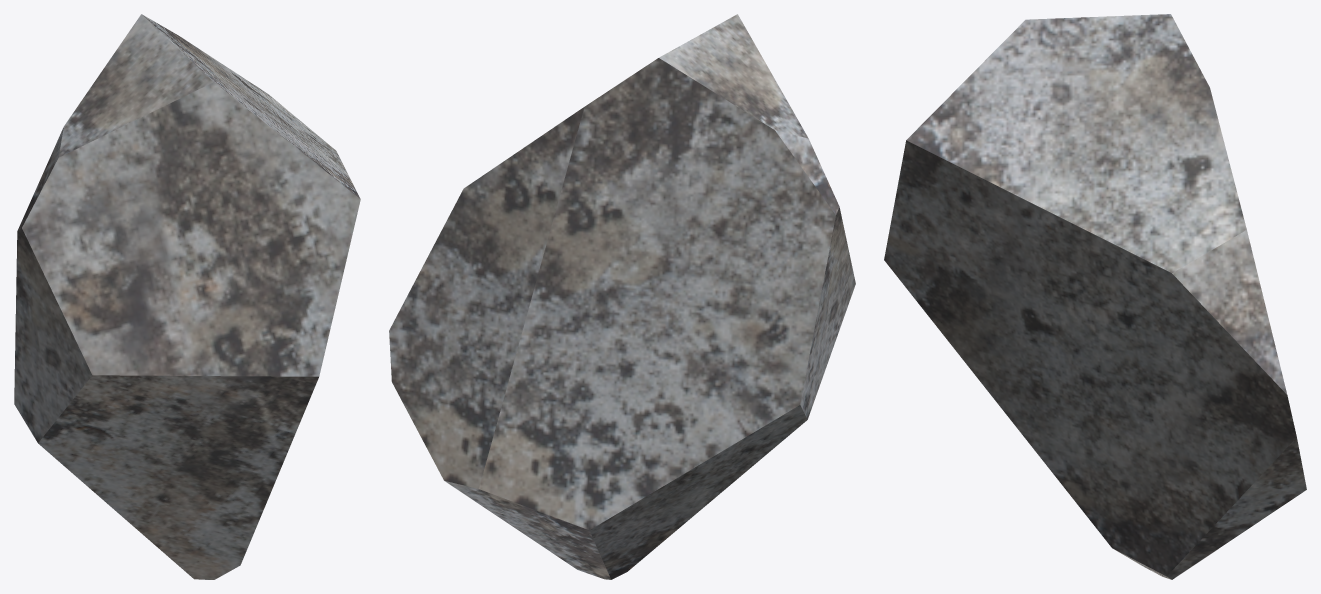
The model's file is Asteroid_Large_001_02_012_03_007.fbx.
The picture shows the model from 3 angles, left to right: view 1: azimuth 30°, elevation 25°; view 2: azimuth 150°, elevation 25°; view 3: azimuth 270°, elevation 25°; orthographic projection. The views are drawn at different scales.
Parts seen in each view (by area): view 1: Asteroid_Large_001_02_012_03_007; view 2: Asteroid_Large_001_02_012_03_007; view 3: Asteroid_Large_001_02_012_03_007.
Boxes of the visible parts, x1,y1,x2,y2 form: Asteroid_Large_001_02_012_03_007: (14, 14, 360, 579); Asteroid_Large_001_02_012_03_007: (389, 14, 855, 579); Asteroid_Large_001_02_012_03_007: (884, 14, 1306, 579).
Size of the model in its own units: 8.16 by 11.76 by 8.44.
